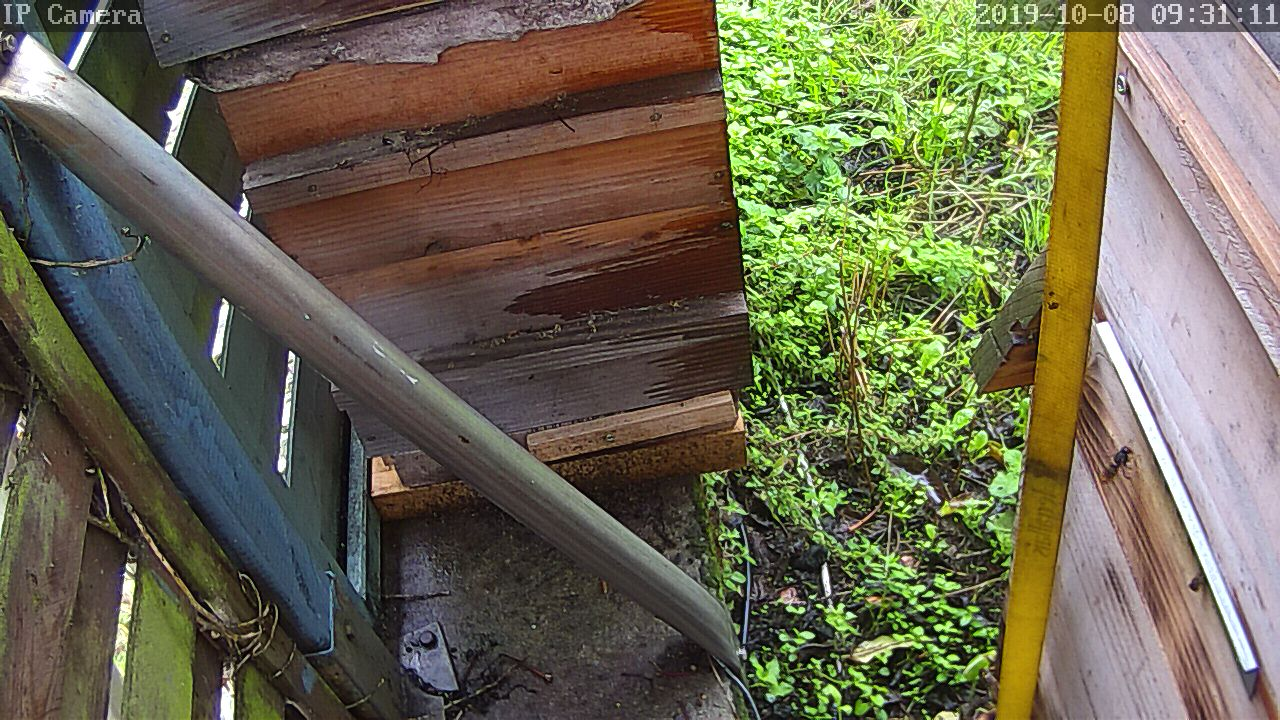bee: (1178, 567, 1210, 597)
hornet: (1089, 442, 1140, 490)
